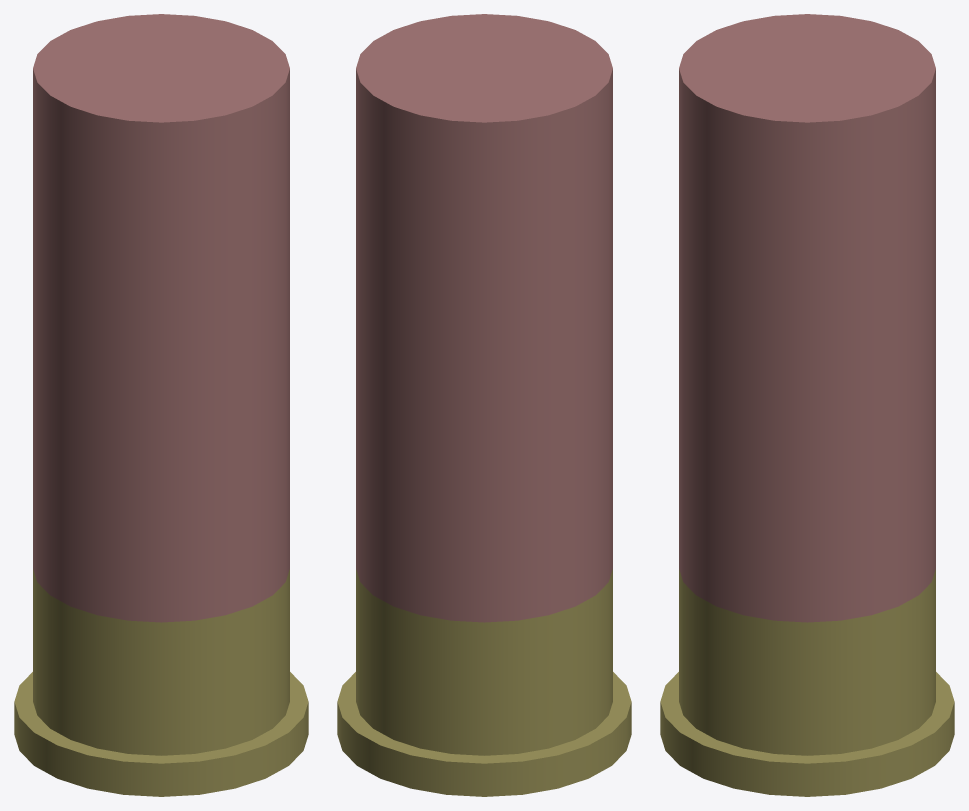
File: ammo_shotgun.glb
The picture shows the model from 3 angles, left to right: view 1: azimuth 30°, elevation 25°; view 2: azimuth 150°, elevation 25°; view 3: azimuth 270°, elevation 25°; orthographic projection.
Visible parts, largest first — view 1: ammo_shotgun; view 2: ammo_shotgun; view 3: ammo_shotgun.
Boxes of the visible parts, x1,y1,x2,y2 form: ammo_shotgun: (14, 14, 308, 796); ammo_shotgun: (337, 14, 631, 796); ammo_shotgun: (660, 14, 954, 796).
Size of the model in its own units: 0.0048 by 0.012 by 0.0048.
